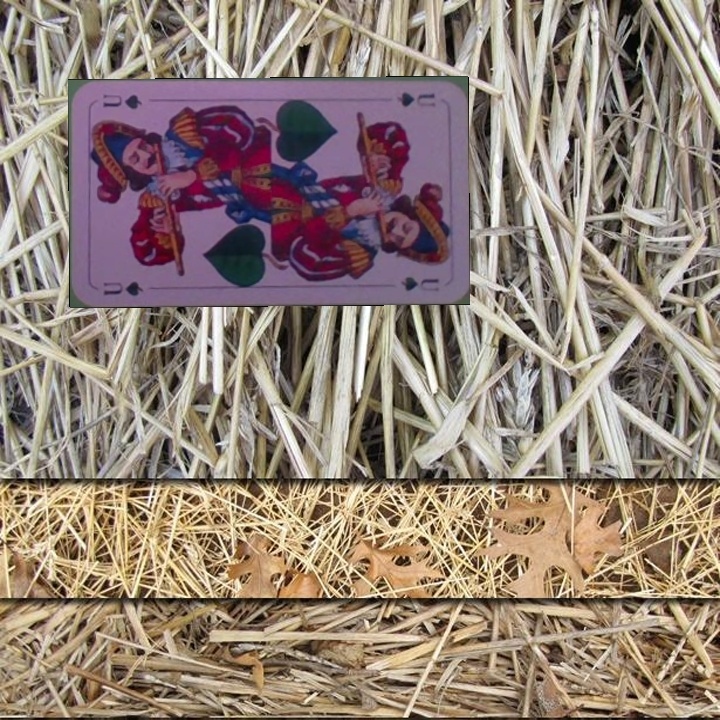GU: (99, 278, 146, 299), (393, 88, 438, 109)
